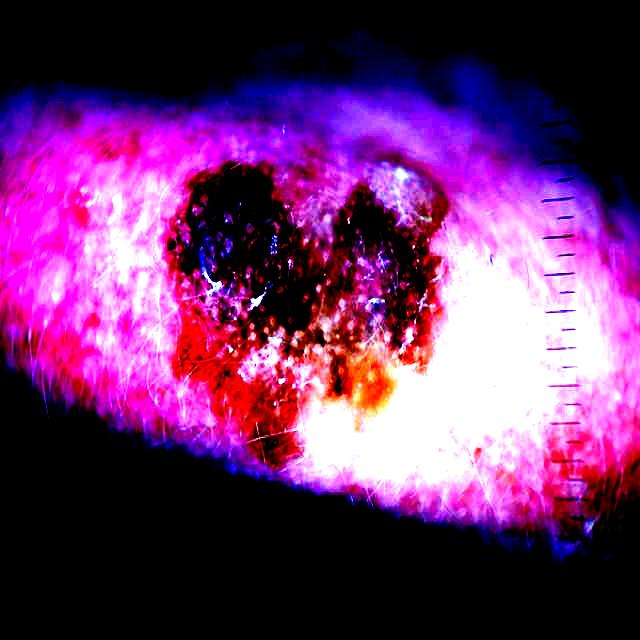MEL: (165, 141, 447, 457)
